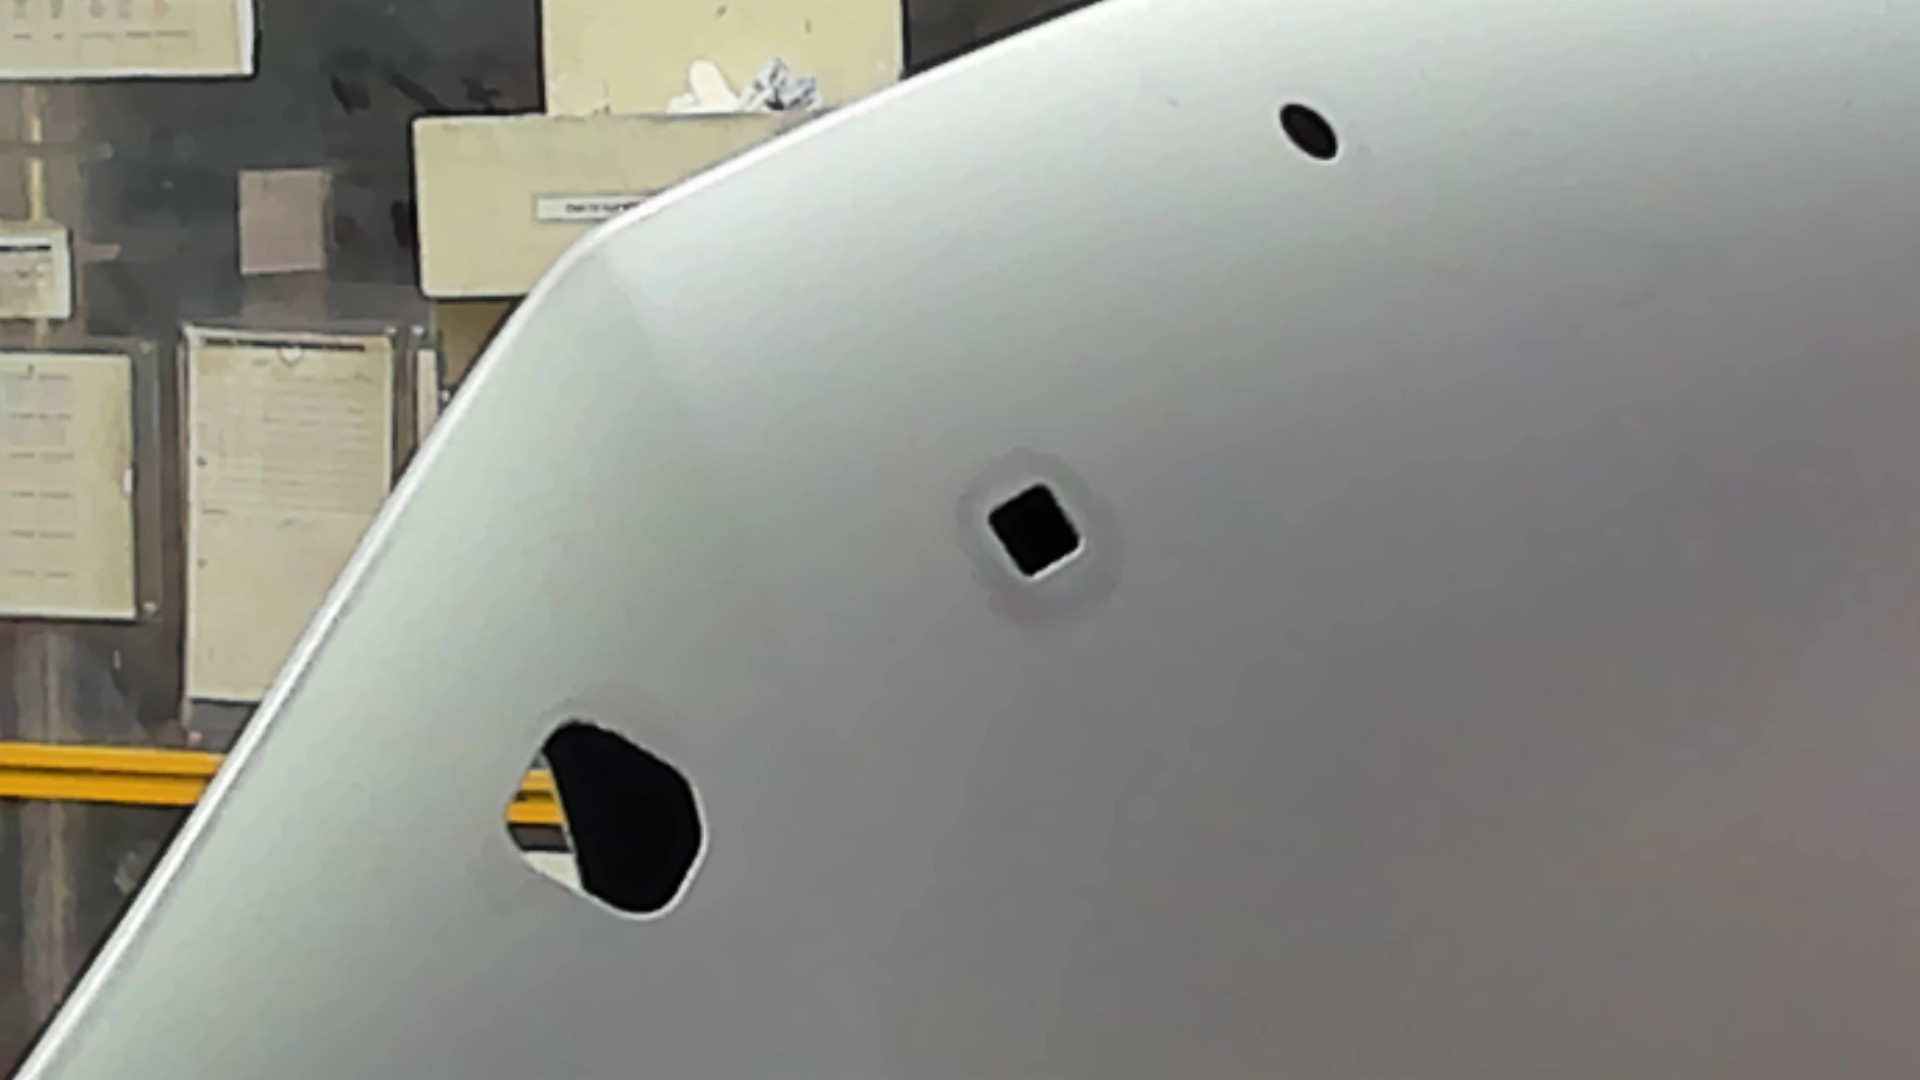chico: (1276, 102, 1342, 162)
grande: (502, 716, 711, 924)
mediano: (984, 481, 1088, 582)
